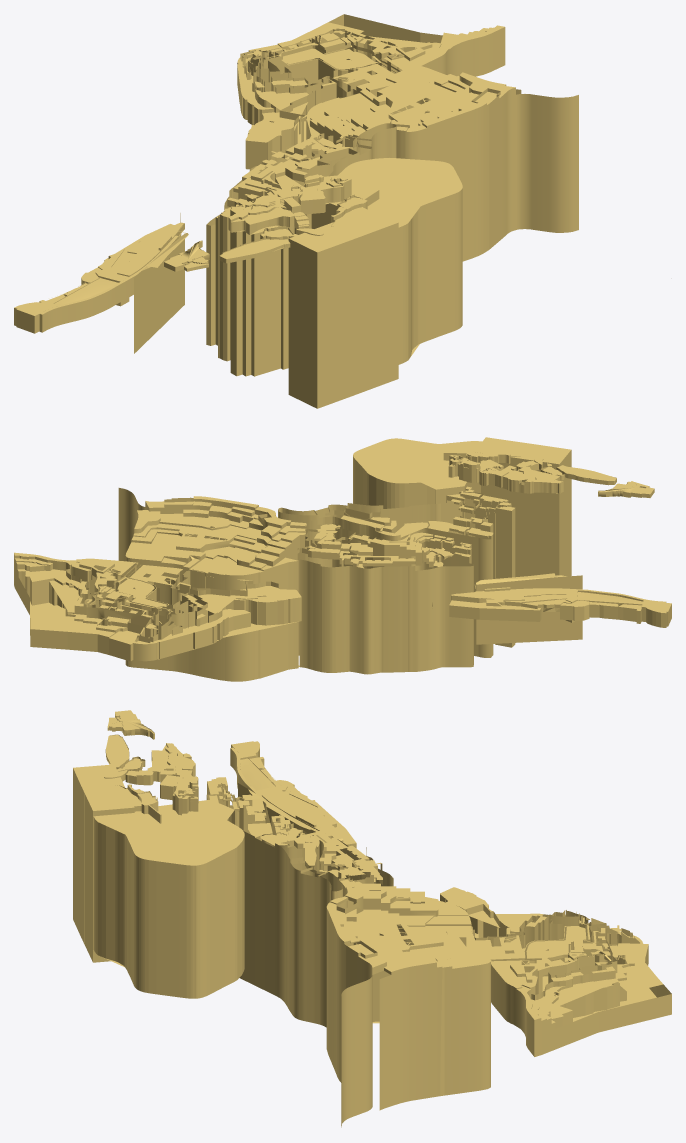
File: Platforms.fbx
3 views of the same model, one above another, from view 1: azimuth 30°, elevation 25°; view 2: azimuth 150°, elevation 25°; view 3: azimuth 270°, elevation 25° (orthographic). The views are drawn at different scales.
Visible parts, largest first — view 1: Platform; view 2: Platform; view 3: Platform.
Part boxes in pixels (box(x1,y1,x2,y2)): Platform: box(14, 14, 578, 408); Platform: box(14, 437, 671, 681); Platform: box(73, 710, 671, 1127).
Bounding box in the file's own units: 1280 × 371 × 1186.
